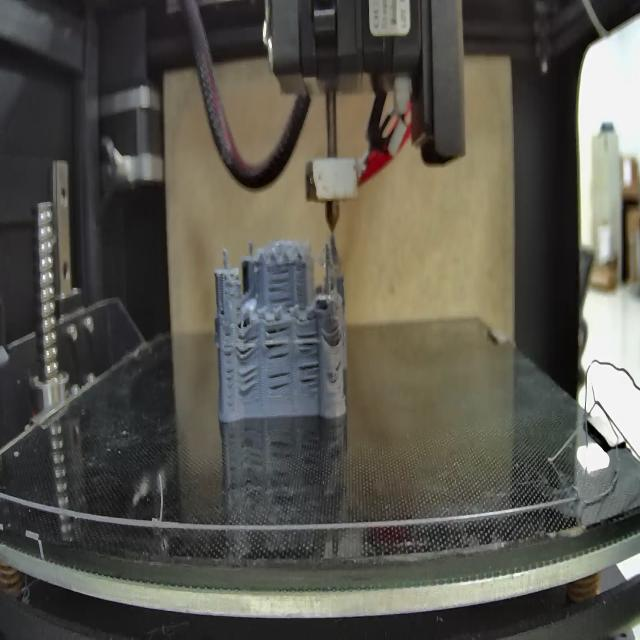cracks: (296, 326, 322, 394), (267, 260, 293, 308), (264, 320, 290, 358), (225, 333, 234, 418), (266, 366, 292, 395), (237, 329, 258, 361), (236, 366, 259, 392), (328, 320, 345, 349), (332, 358, 344, 379), (218, 300, 225, 318)
